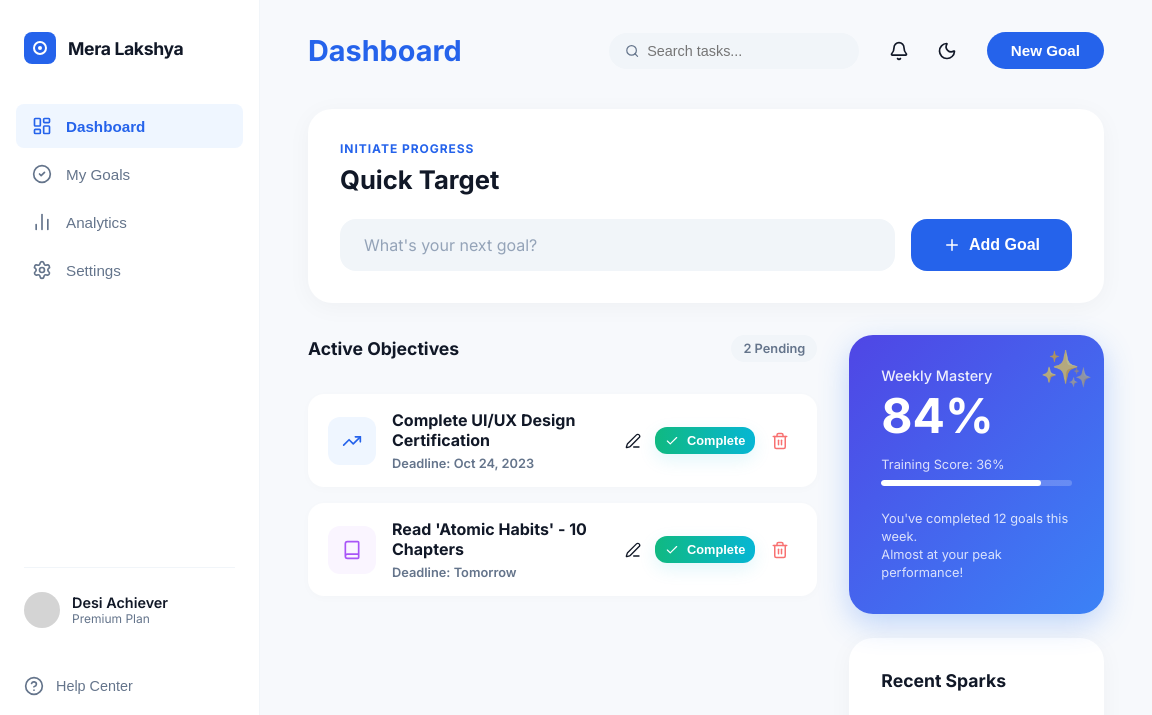
Test: Goal Manager App › adds a new goal when submitted
The image size is (1152, 715).
# Type a new goal
In the field with placeholder "What's your next goal?": (617, 245) [340,219,895,271], type "Learn Vitest"
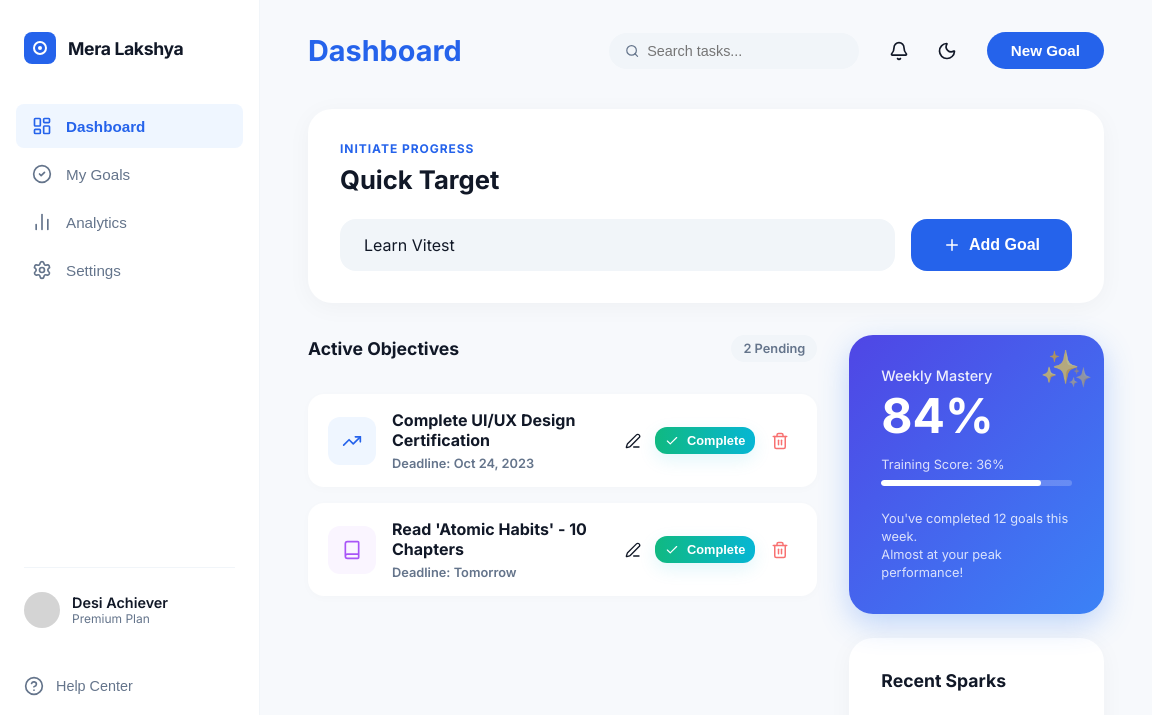
# Submit the goal
Click the button "Add Goal": (991, 245) [911,219,1072,271]
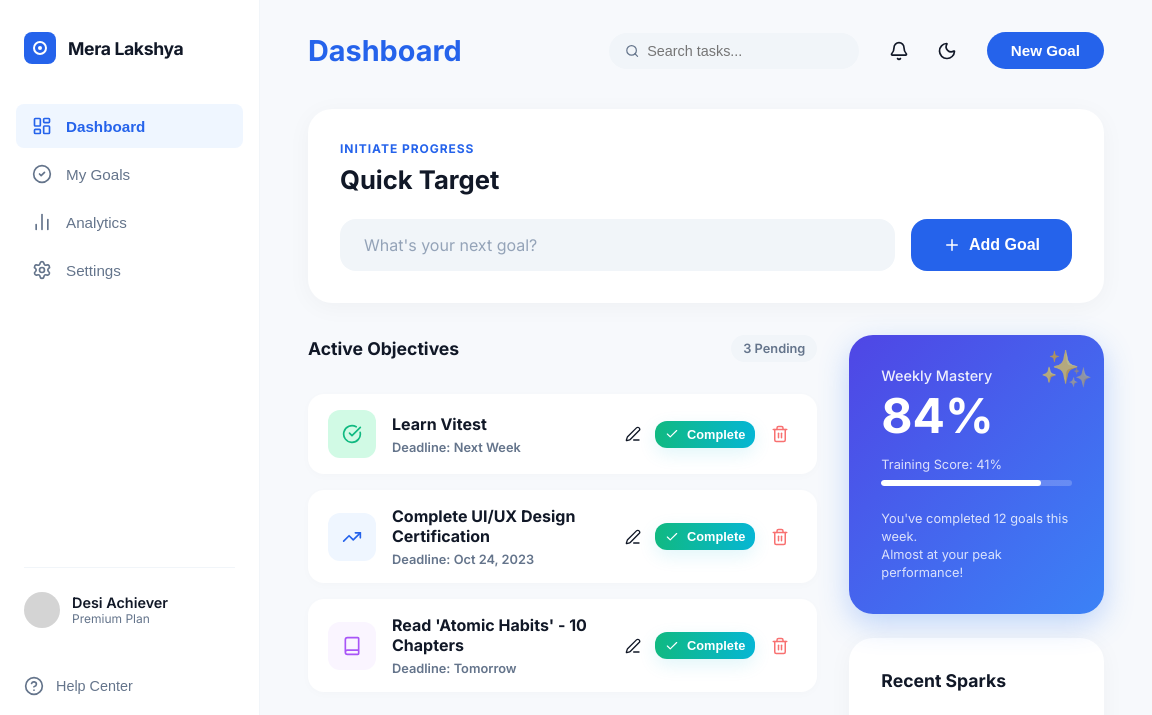
Expected: the heading "Learn Vitest" is shown, [392,414,487,434]
